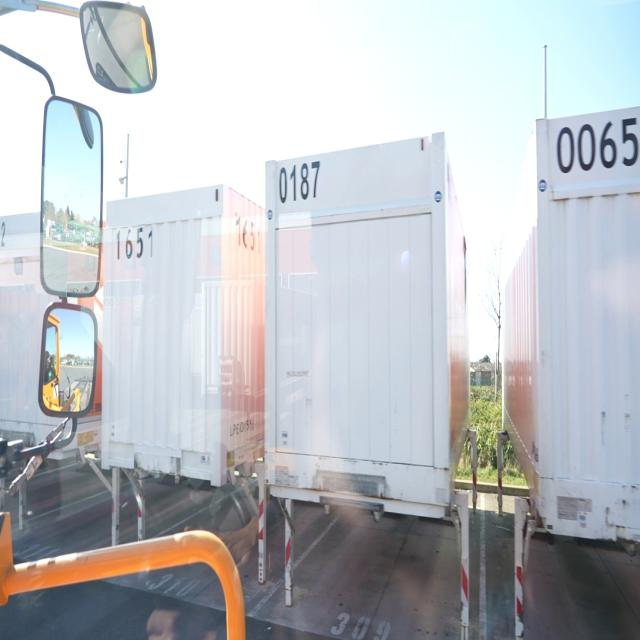Code: (556, 114, 640, 178), (276, 156, 323, 205), (112, 219, 158, 267)
